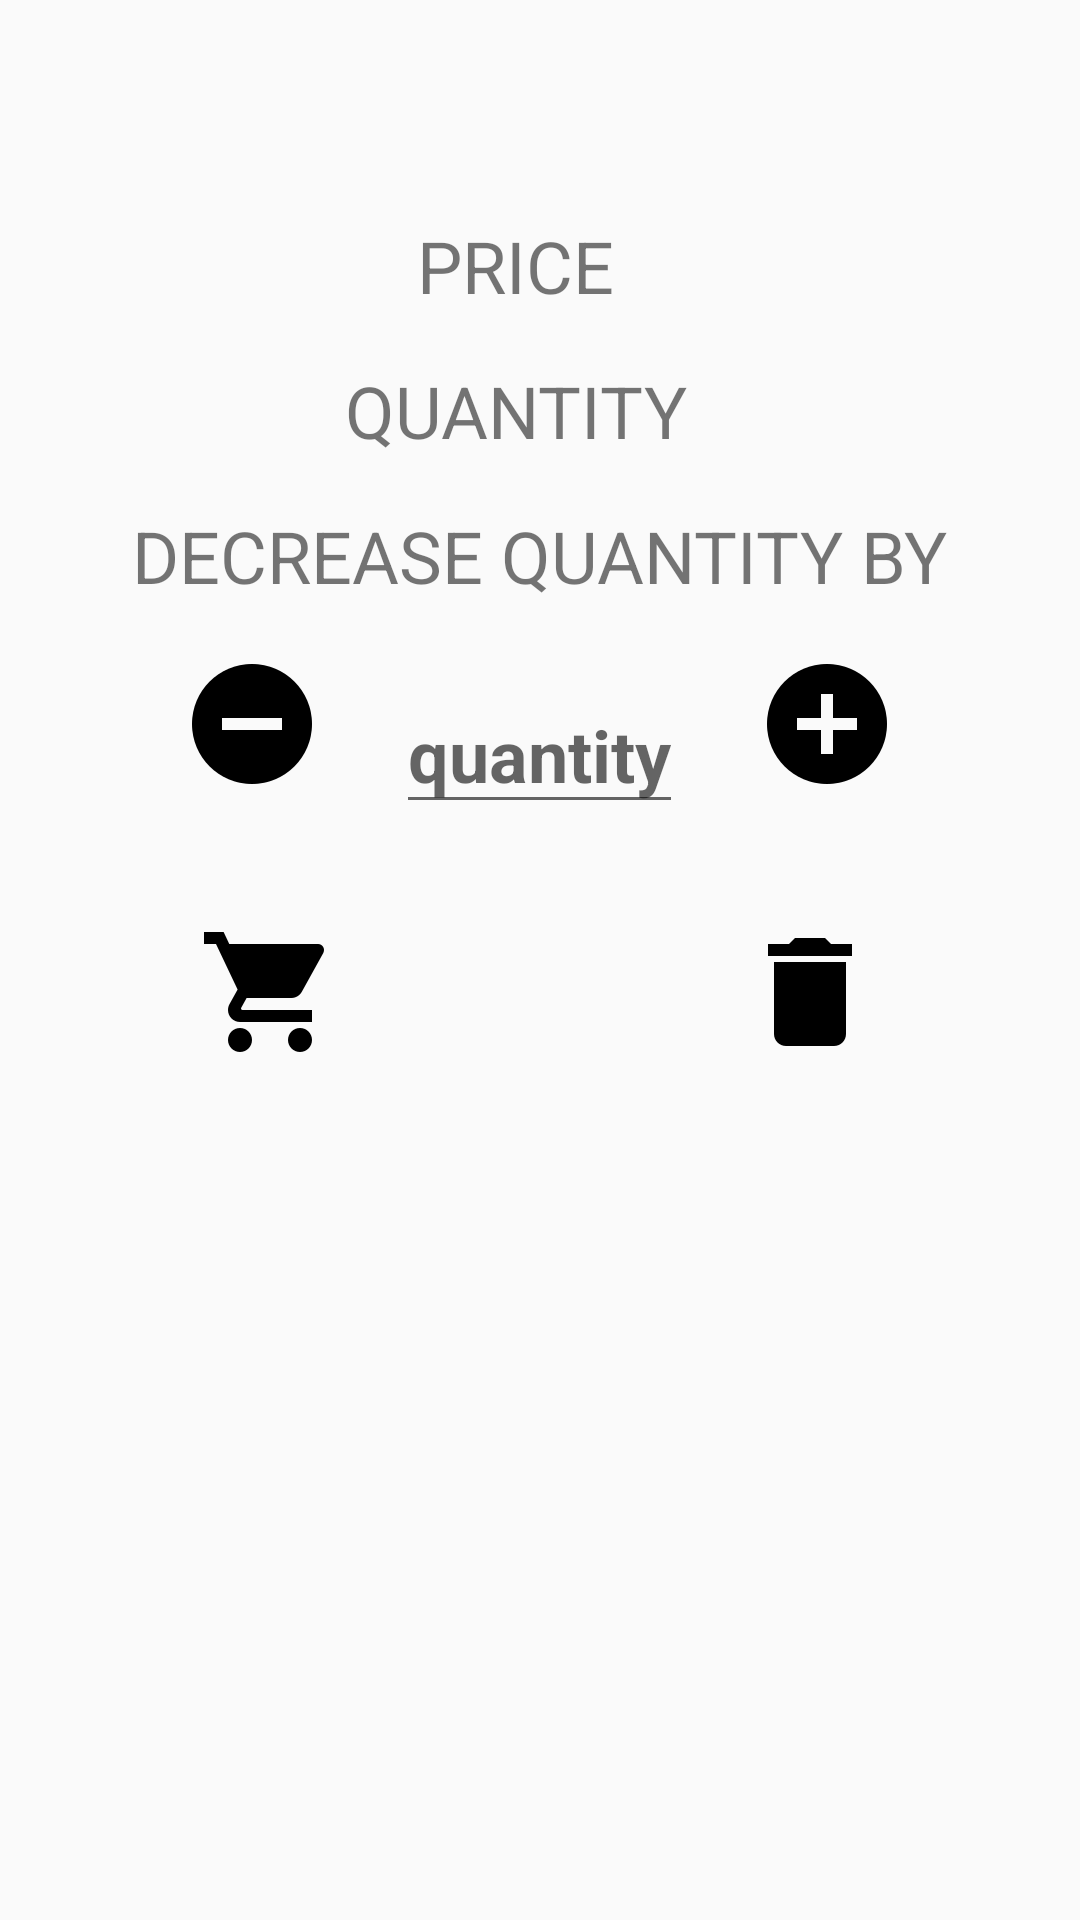

Where to tap for icons on this 1080w x 1920h app screen, as [x,y]:
cart: [264,992]
delete: [810,992]
minus: [252,724]
plus: [827,724]
